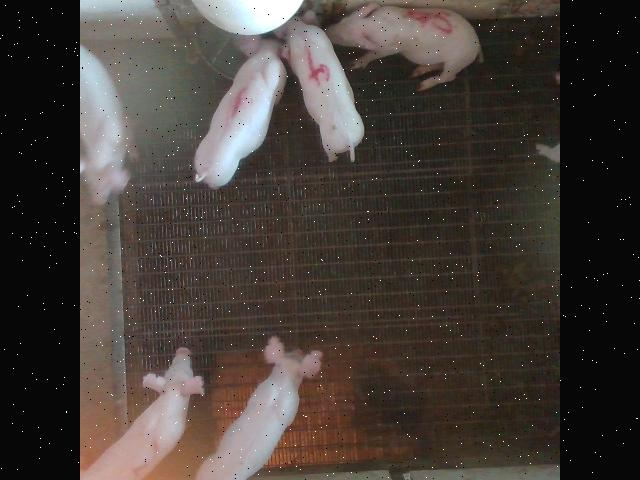pig-1: (195, 40, 286, 188)
pig-2: (81, 346, 204, 480)
pig-4: (284, 18, 364, 160)
pig-5: (326, 2, 482, 90)
